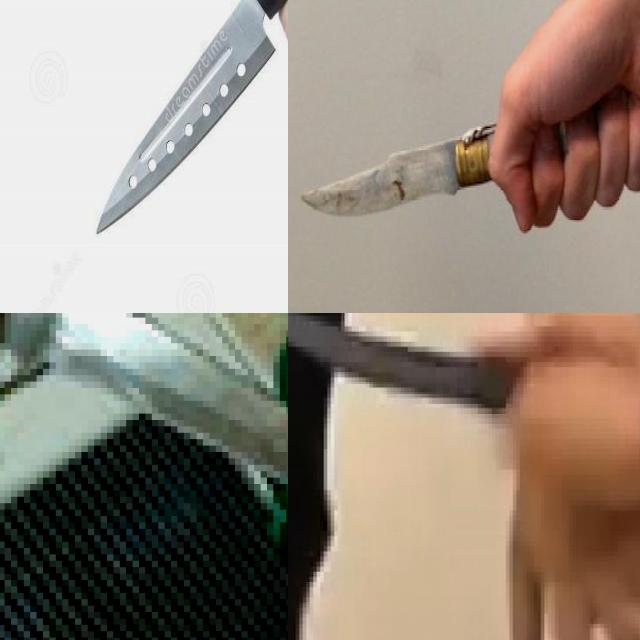Knife: (99, 0, 287, 232), (288, 313, 509, 412), (300, 124, 498, 218)
Knife_Handle: (298, 18, 640, 226), (0, 313, 288, 522), (79, 0, 288, 252), (288, 313, 640, 450)
